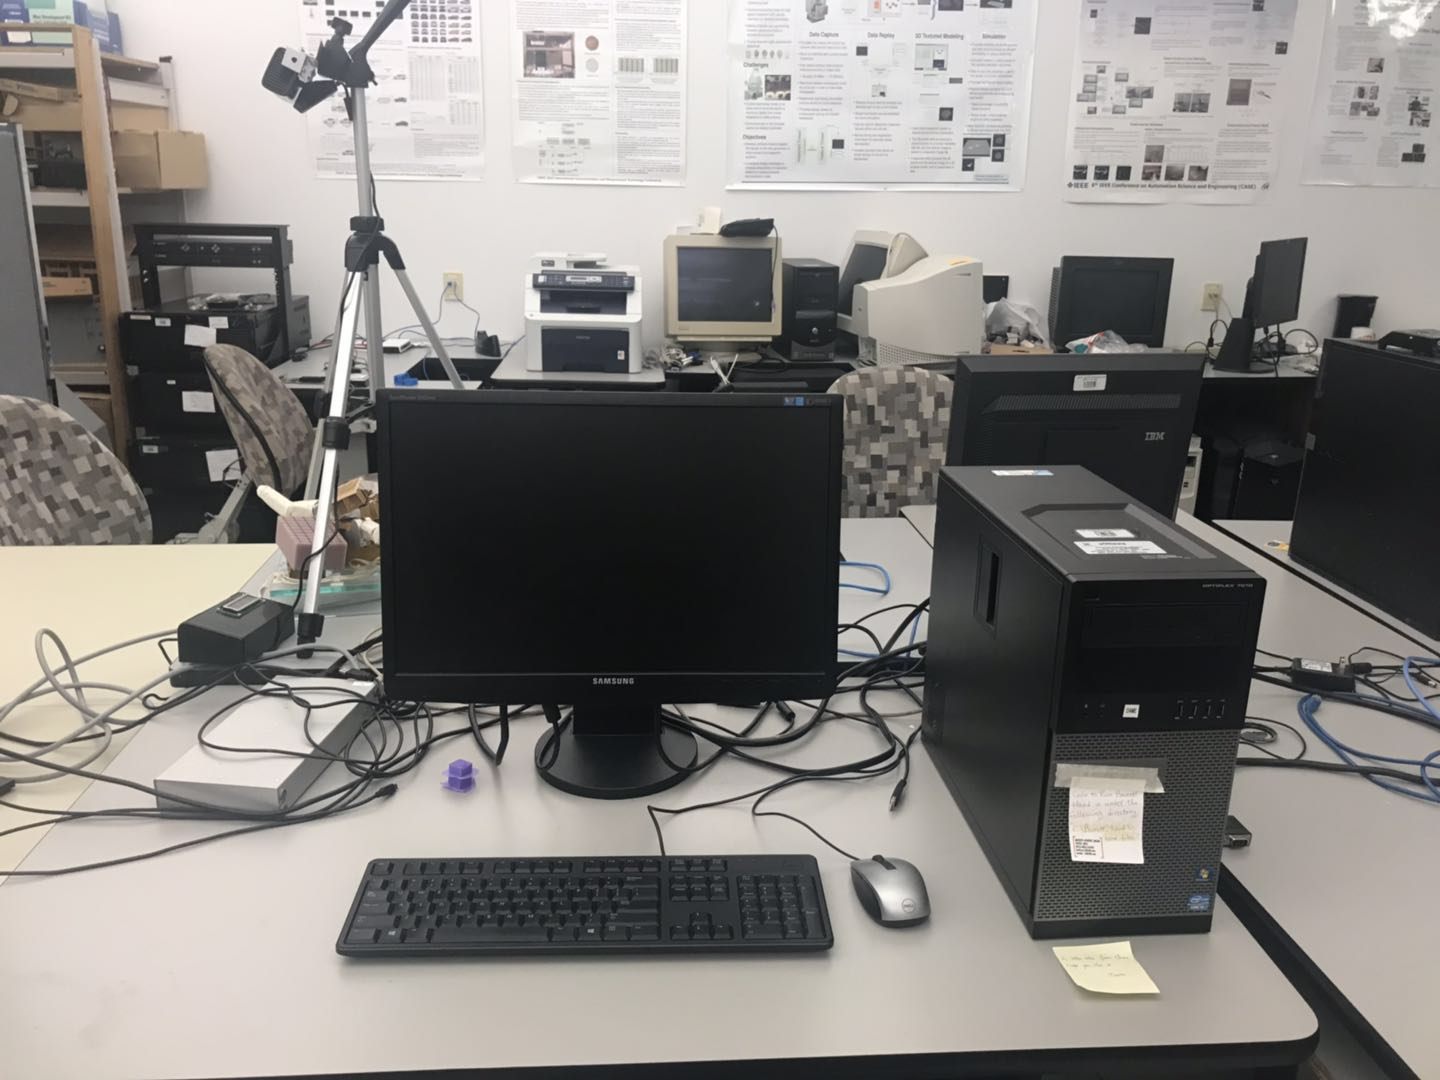tvmonitor: (373, 393, 842, 798), (666, 234, 782, 364), (1214, 239, 1307, 372), (1047, 255, 1174, 345)
